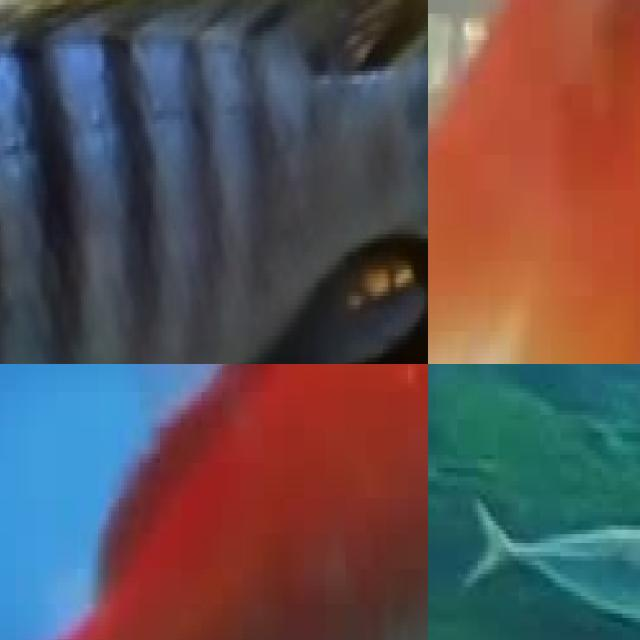fish: (0, 0, 428, 364), (0, 364, 428, 640)
